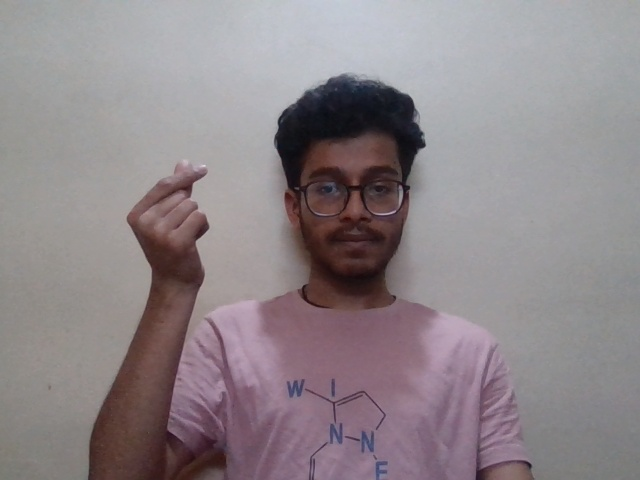J: (120, 145, 229, 296)
